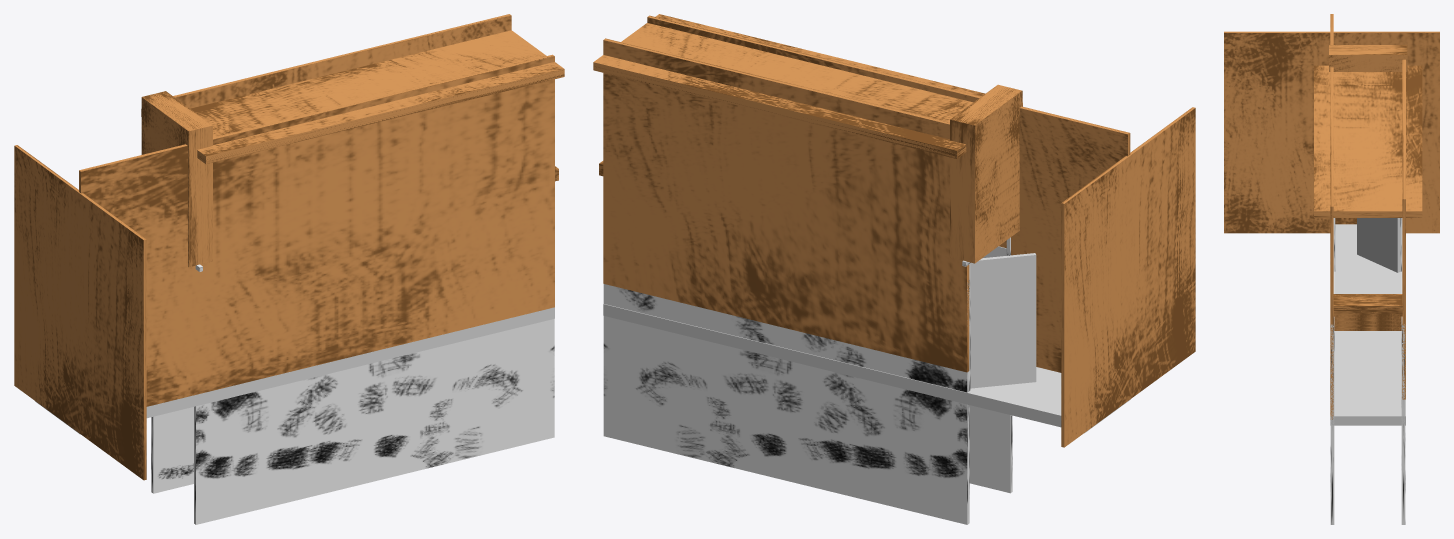
File: podval.fbx
3 views of the same model, side by side, from view 1: azimuth 30°, elevation 25°; view 2: azimuth 150°, elevation 25°; view 3: azimuth 270°, elevation 25° (orthographic). The views are drawn at different scales.
Visible parts, largest first — view 1: Cube.002, Cube.003, Cube.013, Cube.006, Cube.010, Cube.001, Cube, Cube.004; view 2: Cube.001, Cube.004, Cube.013, Cube.006, Cube.002, Cube.010, Cube.011, Cube, Cube.003; view 3: Cube.013, Cube.006, Cube, Cube.014, Cube.010, Cube.011, Cube.002, Cube.001, Cube.004, Cube.003.
Boxes of the visible parts, x1,y1,x2,y2 form: Cube.002: (79, 54, 554, 406); Cube.003: (194, 319, 554, 524); Cube.013: (14, 145, 146, 480); Cube.006: (141, 30, 564, 164); Cube.010: (141, 91, 212, 267); Cube.001: (173, 14, 511, 108); Cube: (35, 307, 554, 434); Cube.004: (151, 407, 193, 493); Cube.001: (603, 38, 969, 372); Cube.004: (603, 280, 969, 524); Cube.013: (1061, 107, 1195, 447); Cube.006: (593, 14, 1022, 158); Cube.002: (647, 15, 1130, 372); Cube.010: (950, 84, 1022, 263); Cube.011: (970, 253, 1036, 388); Cube: (603, 304, 1130, 432); Cube.003: (969, 246, 1012, 493); Cube.013: (1224, 31, 1439, 233); Cube.006: (1314, 65, 1422, 217); Cube: (1330, 224, 1405, 425); Cube.014: (1333, 294, 1402, 330); Cube.010: (1329, 45, 1407, 71); Cube.011: (1357, 218, 1400, 272); Cube.002: (1330, 14, 1333, 419); Cube.001: (1402, 59, 1405, 399); Cube.004: (1401, 218, 1405, 524); Cube.003: (1330, 218, 1334, 524).
Size of the model in its own units: 880 by 693 by 410.
